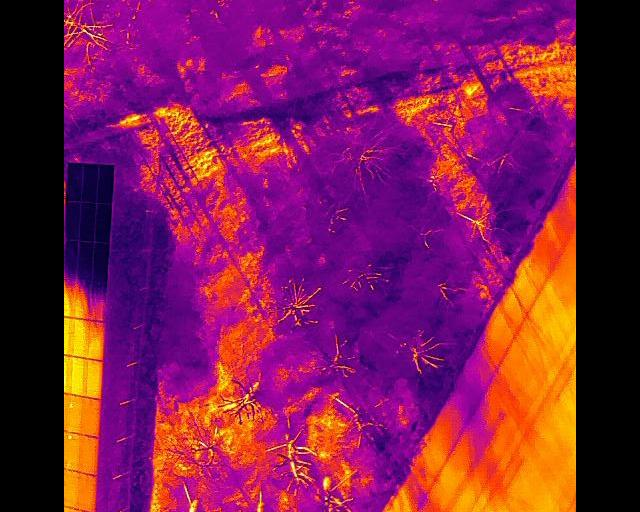Cell: (70, 395, 86, 433)
Cell-Multi: (67, 432, 83, 470)
No-Anomaly: (76, 472, 97, 512), (88, 320, 105, 360), (72, 356, 87, 398), (87, 360, 103, 399), (73, 317, 88, 358), (85, 398, 101, 436), (83, 435, 98, 473)
Shadowing: (67, 163, 84, 202), (93, 242, 110, 281), (81, 201, 97, 241), (83, 163, 99, 203), (98, 164, 114, 203), (65, 201, 81, 240), (78, 240, 93, 280), (76, 280, 91, 320), (97, 202, 112, 242), (91, 281, 105, 321), (64, 239, 78, 277)
